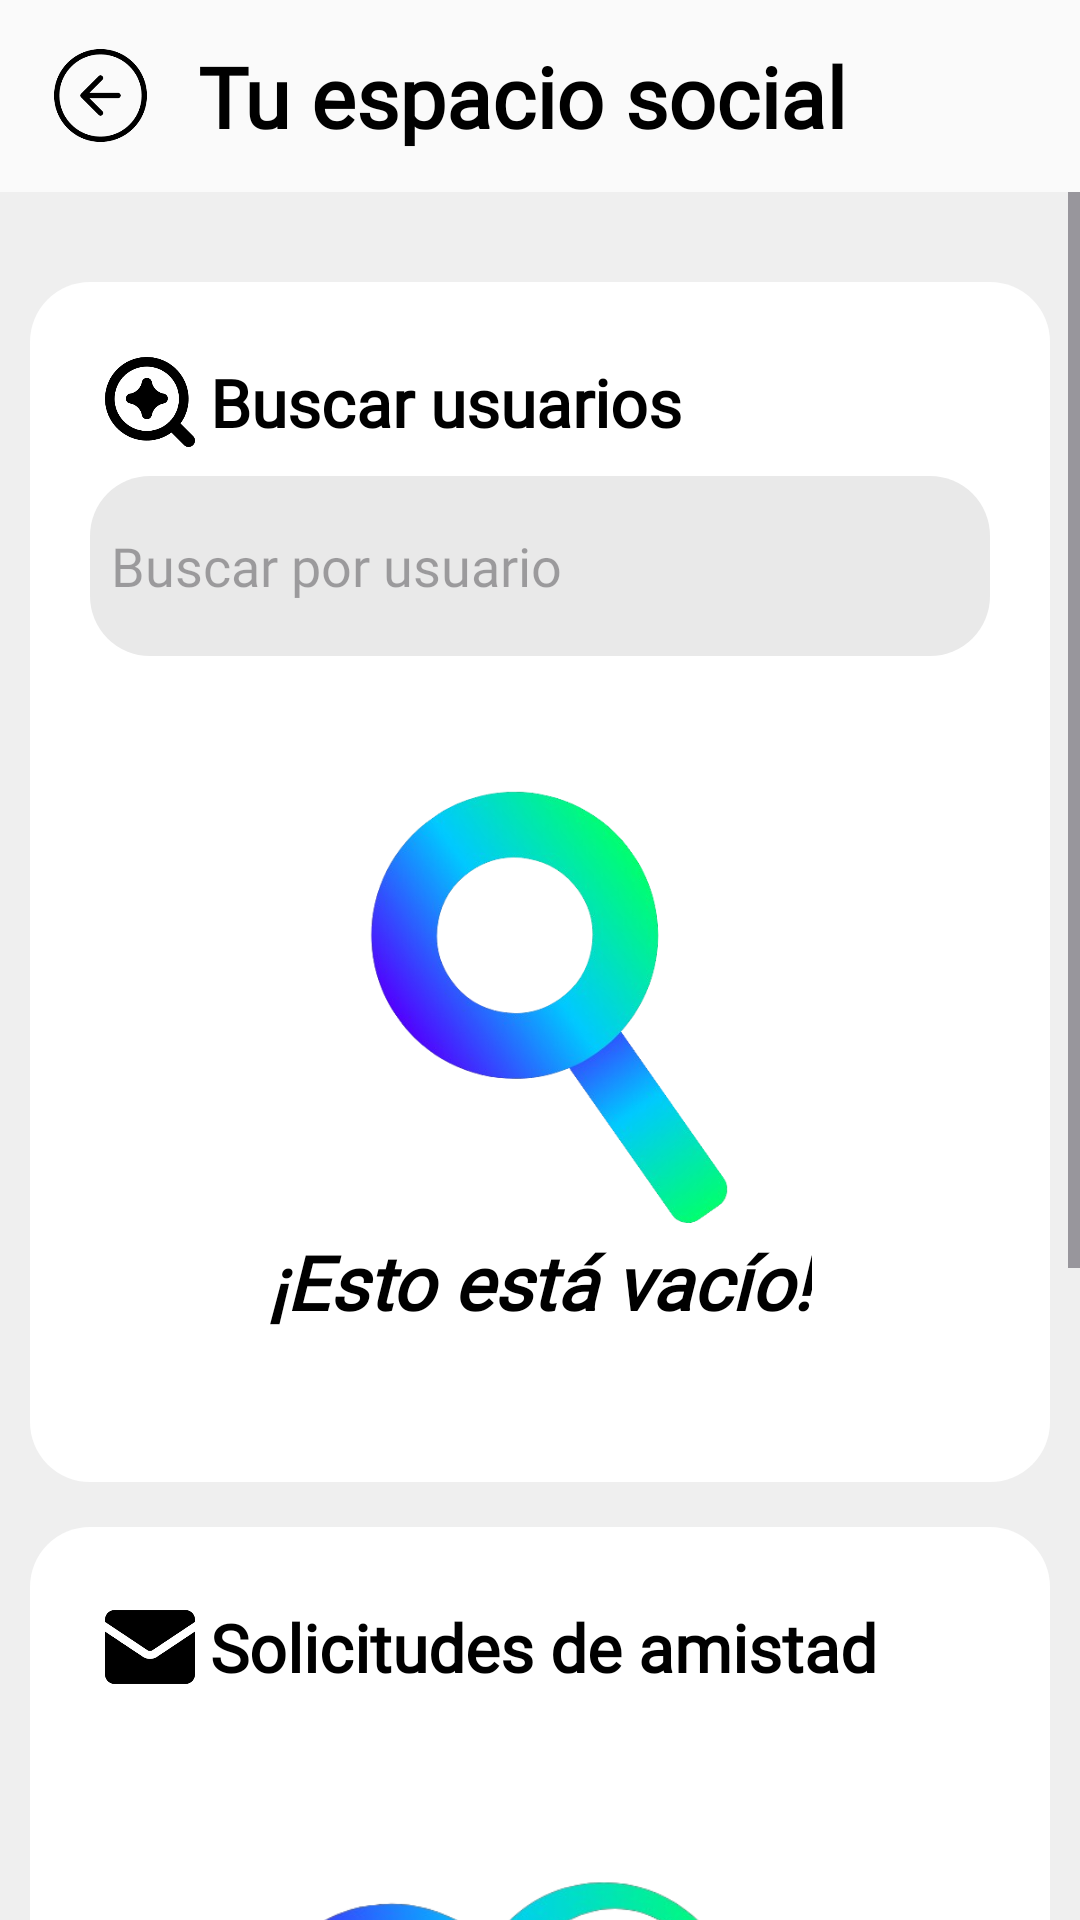

Screen size 1080×1920. Icon name, then its center in pixels as [x,y]:
Boton para volver atrás: [100,95]
search: [150,402]
